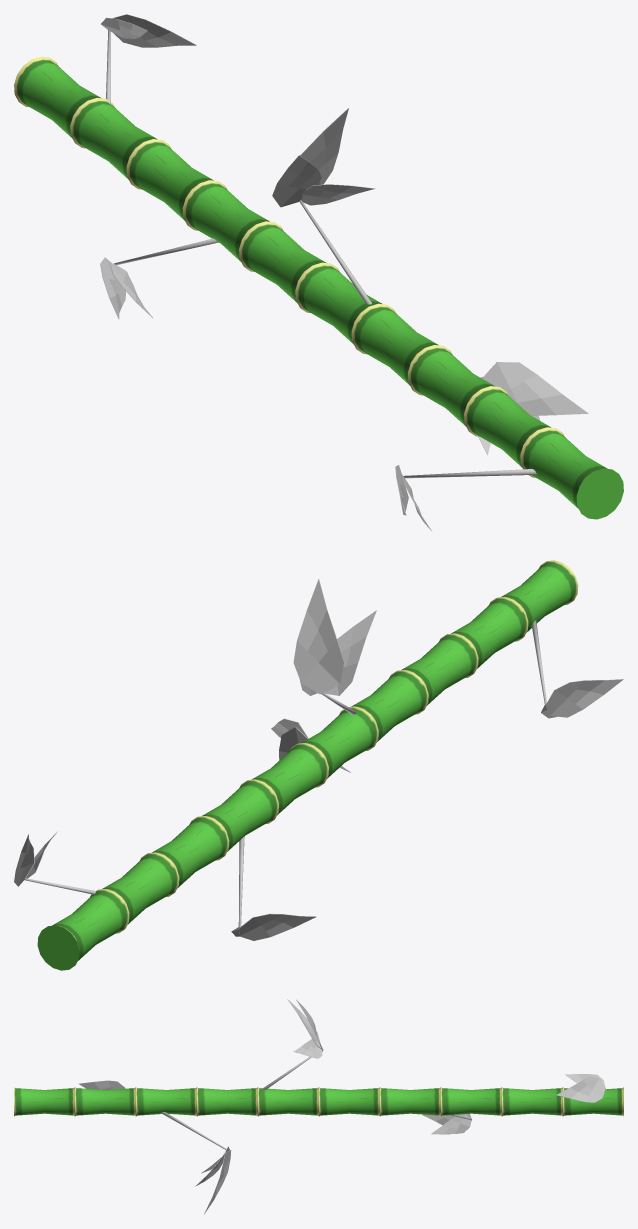
Rendered from bambook2.fbx.
3 renders of one model, top to bottom at view 1: azimuth 30°, elevation 25°; view 2: azimuth 150°, elevation 25°; view 3: azimuth 270°, elevation 25°, orthographic. The views are drawn at different scales.
Visible parts, largest first — view 1: bambook.001; view 2: bambook.001; view 3: bambook.001.
Part boxes in pixels (<box>): bambook.001: <box>14,14,623,531</box>; bambook.001: <box>14,560,623,970</box>; bambook.001: <box>14,999,623,1214</box>.
Bounding box in the file's own units: 380 × 420 × 1275.
